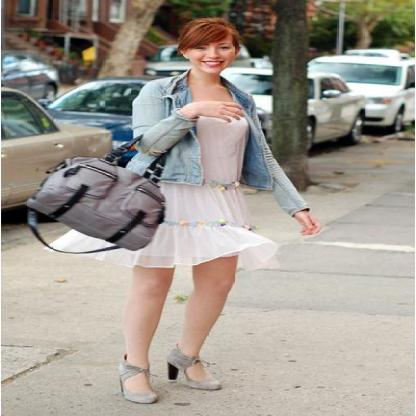bag: (28, 158, 165, 252)
jacket: (123, 75, 309, 217)
shirt: (191, 113, 255, 196)
shoe: (124, 352, 215, 400)
skirt: (137, 183, 259, 267)
